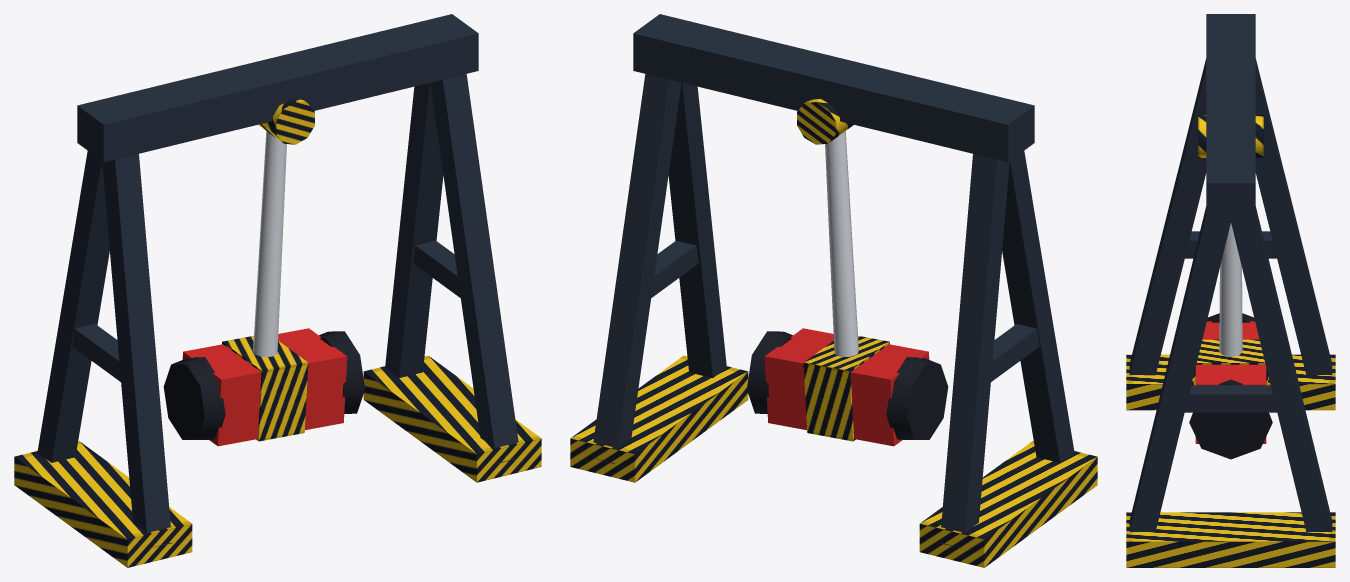
File: pendulum_hammer.glb
3 renders of one model, left to right at view 1: azimuth 30°, elevation 25°; view 2: azimuth 150°, elevation 25°; view 3: azimuth 270°, elevation 25°, orthographic. The views are drawn at different scales.
Parts seen in each view (by area): view 1: pendulum_hammer, hammer_pivot; view 2: pendulum_hammer, hammer_pivot; view 3: pendulum_hammer, hammer_pivot.
Part boxes in pixels (x1,y1,x2,y2): pendulum_hammer: (14,14,541,567); hammer_pivot: (163,131,364,446); pendulum_hammer: (570,14,1097,567); hammer_pivot: (747,131,948,446); pendulum_hammer: (1126,14,1335,567); hammer_pivot: (1189,223,1272,459).
Bounding box in the file's own units: 4.86 × 4.56 × 2.3.
Materials: 5 (1 with a texture image).
